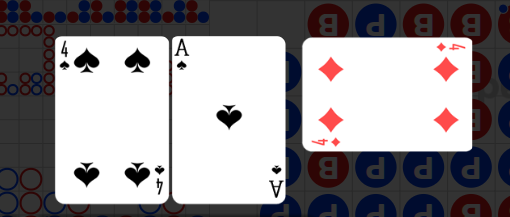4D: (434, 41, 466, 53)
4S: (153, 162, 166, 196)
AS: (267, 163, 284, 199)
